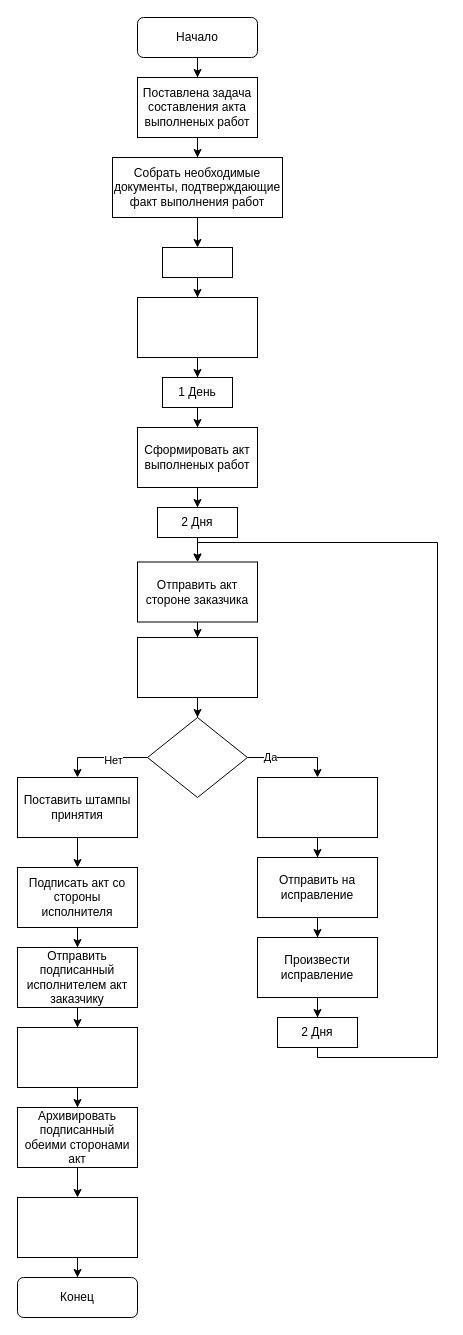
Image size: 463x1335. Some labels were removed from this diagram. The box of each missing label's shape, as (x1, y1, x2, y2) in pixels:
7 Дней: (162, 246, 232, 278)
Ошибки выявлены: (146, 716, 248, 798)
Получить подписанный заказчиком акт: (16, 1026, 138, 1088)
Проанализировать собранные документы: (136, 296, 258, 358)
Проверить акт выполненых работ: (136, 636, 258, 698)
Работы по составлению акта выполненых работ завершены: (16, 1196, 138, 1258)
Составить список замечаний и исправлений: (256, 776, 378, 838)
